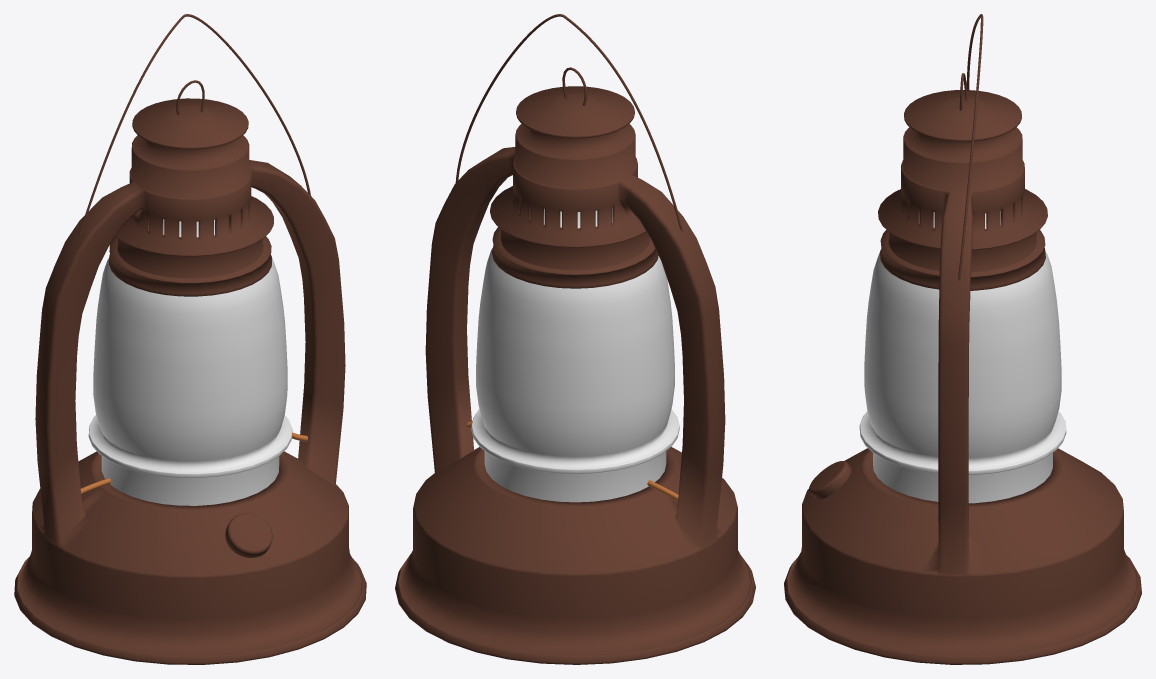
File: Lantern.fbx
3 views of the same model, side by side, from view 1: azimuth 30°, elevation 25°; view 2: azimuth 150°, elevation 25°; view 3: azimuth 270°, elevation 25° (orthographic). The views are drawn at different scales.
Parts seen in each view (by area): view 1: Lantern; view 2: Lantern; view 3: Lantern.
Boxes of the visible parts, x1,y1,x2,y2 form: Lantern: (14, 14, 366, 664); Lantern: (395, 14, 755, 664); Lantern: (784, 14, 1141, 664).
Bounding box in the file's own units: 59.32 × 106 × 59.32.
